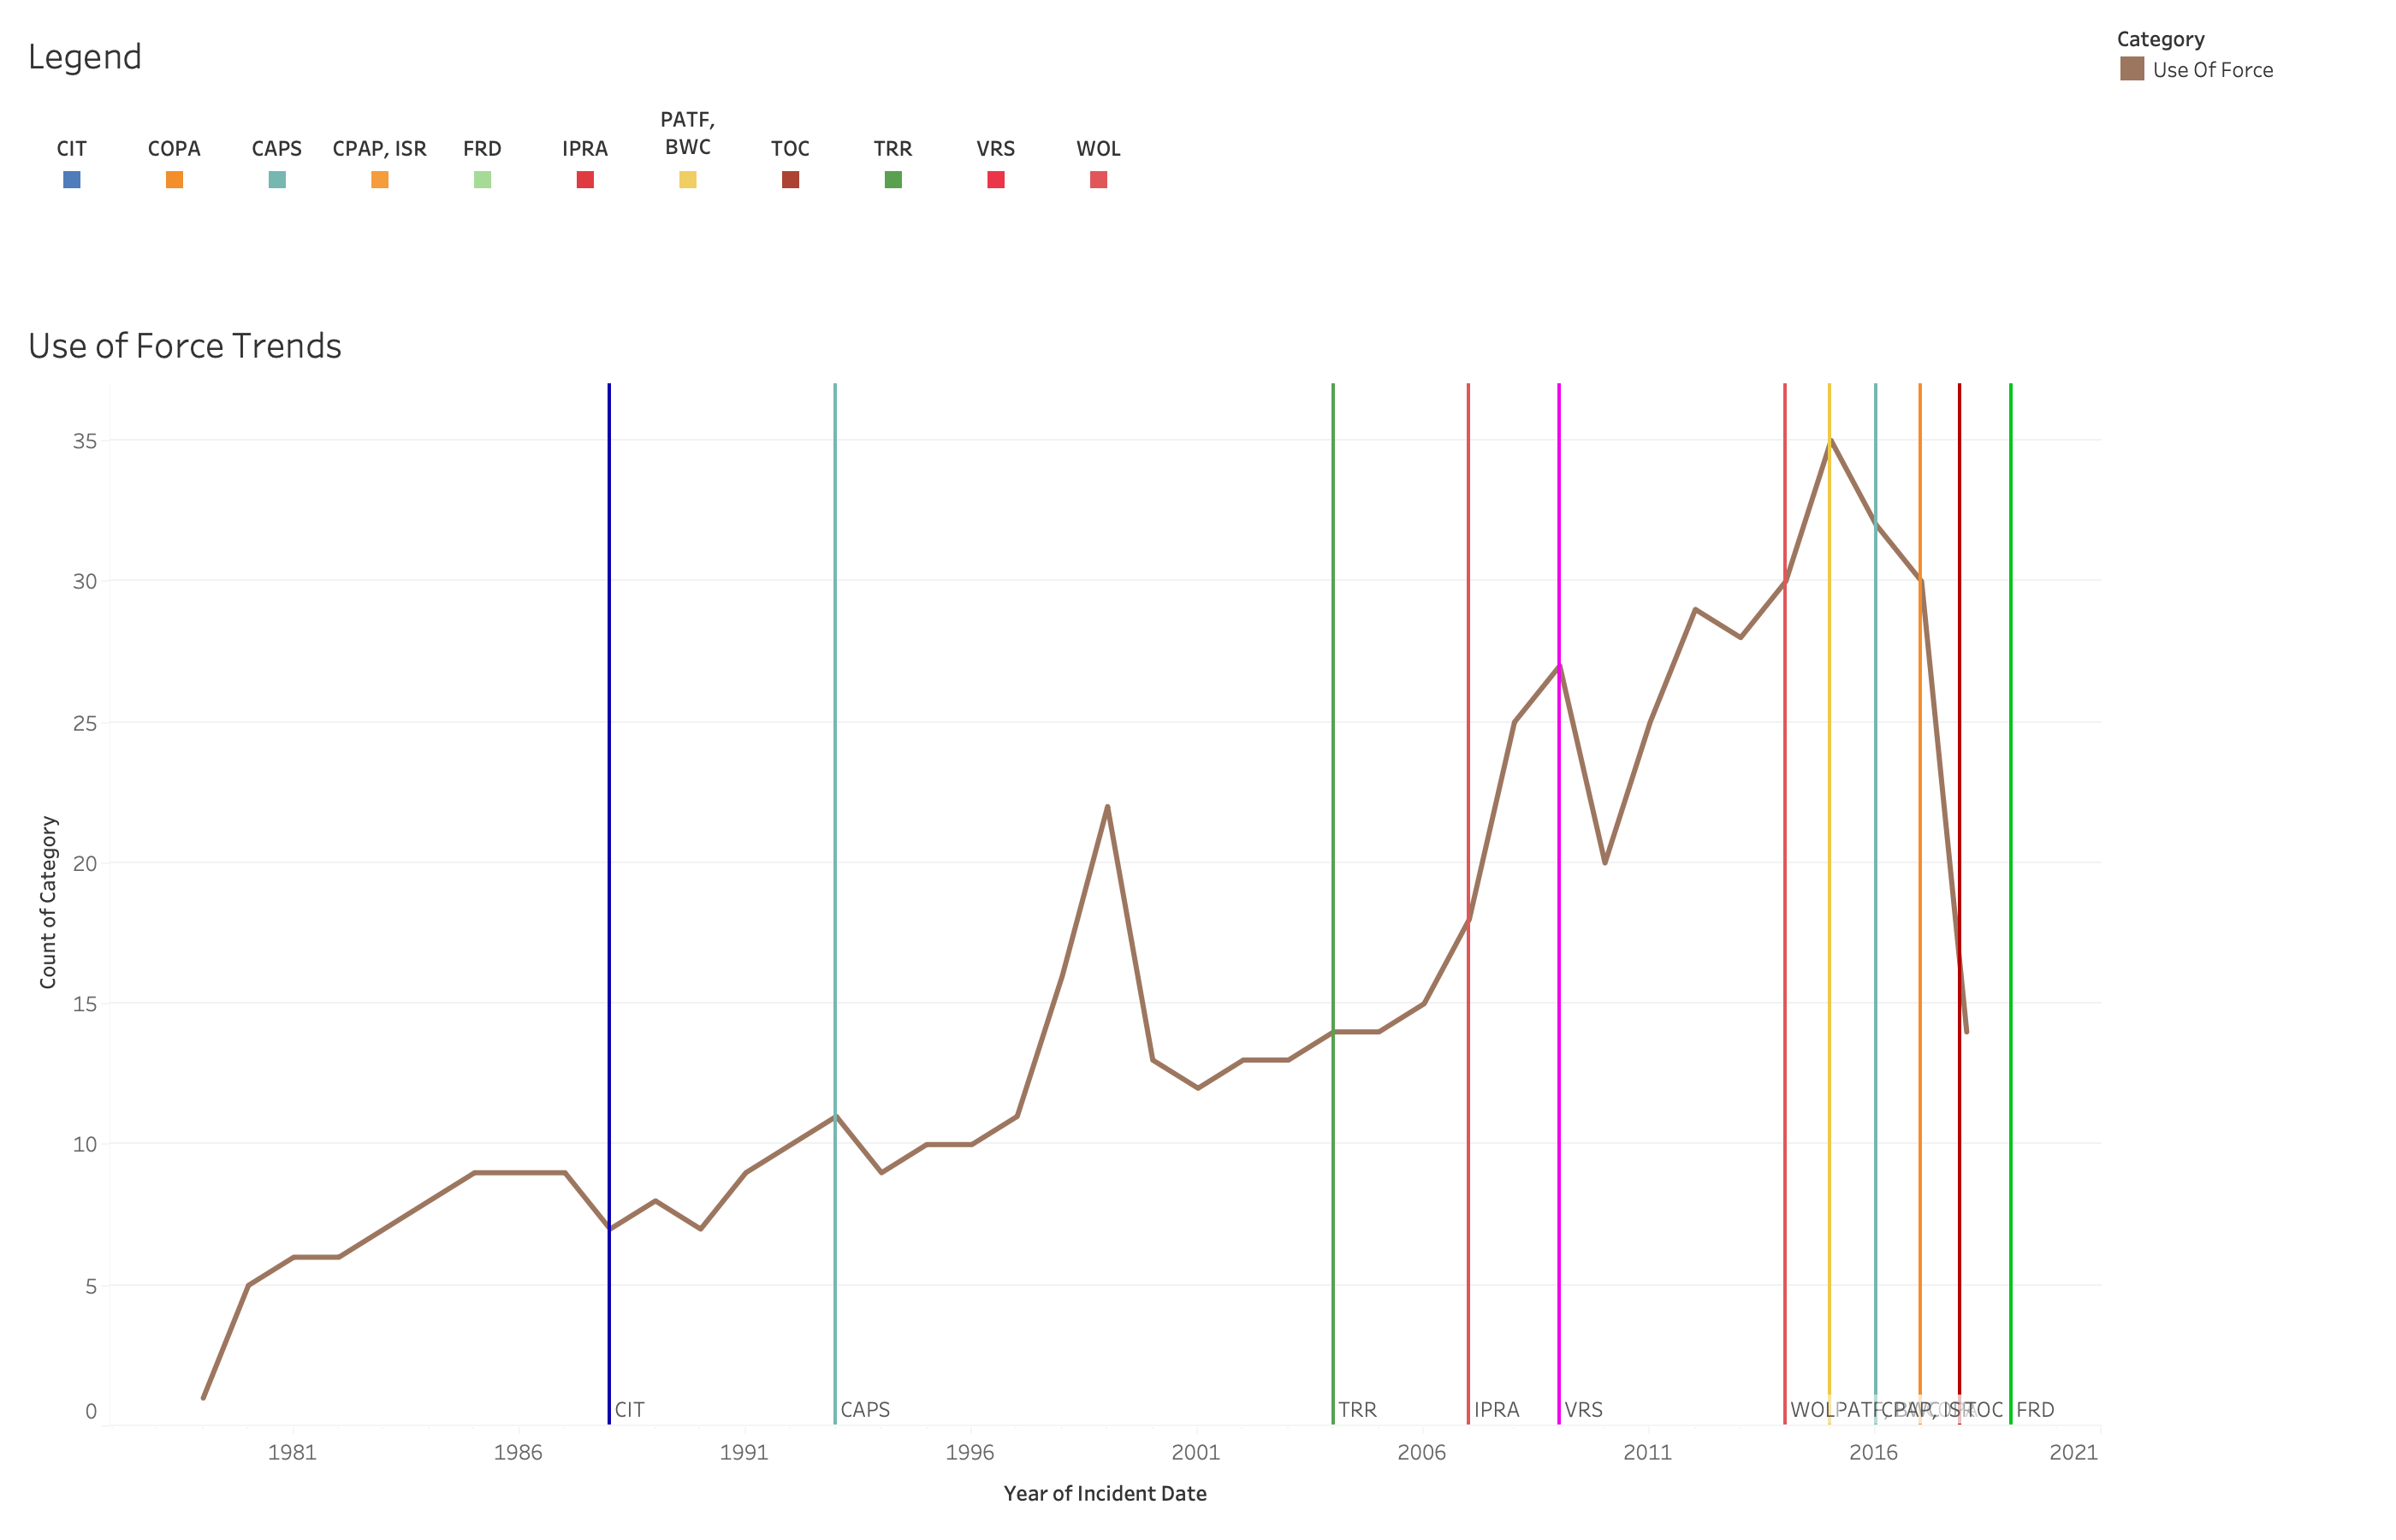

The dashboard page shown, as its layout file describes it:
{"tool":"tableau","page":{"name":"Viz 3","canvas":[1000,1000],"units":"permille","ordinal":2},"visuals":[{"type":"worksheet","title":"legend","mark":"Square","box":[5.7,8.9,874.3,187.9]},{"type":"legend","title":"Use of Force Trends","param":"[federated.1b0pa4i1ec3ry010a1tgf1q66knt].[none:category:nk]","box":[880,8.9,114.3,51.1]},{"type":"worksheet","title":"Use of Force Trends","mark":"Automatic","rows":["category"],"cols":["incident_date"],"box":[5.7,196.8,874.3,794.3]}]}

Visuals, with their boxes on the dashboard's canvas, which has no fixed pixel size, in thousandths of its width and height (x1, y1, x2, y2). These are canvas units, not pixel positions in the 2396x1540 screenshot, which may show the page scaled, cropped or inside an application window:
"legend" worksheet (Square marks): <bbox>6, 9, 880, 197</bbox>
"Use of Force Trends" legend: <bbox>880, 9, 994, 60</bbox>
"Use of Force Trends" worksheet: <bbox>6, 197, 880, 991</bbox>
